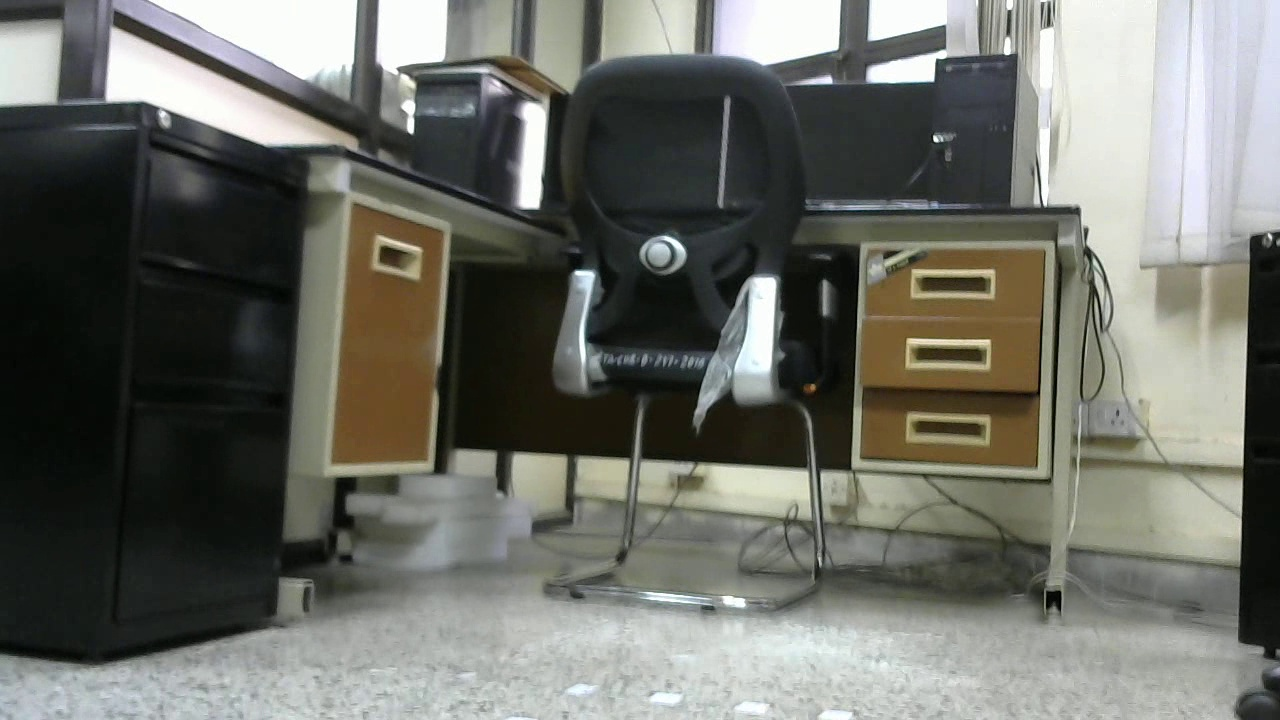chair: (546, 53, 822, 614)
